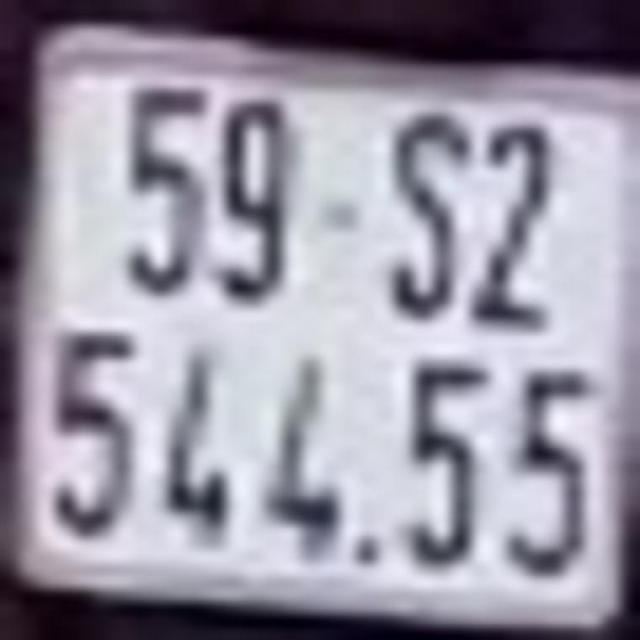2: (475, 117, 557, 326)
4: (267, 343, 353, 568), (170, 338, 237, 562)
5: (39, 313, 144, 545), (508, 355, 608, 584), (403, 351, 490, 574), (118, 77, 205, 298)
9: (219, 85, 290, 308)
S: (388, 101, 466, 318)
